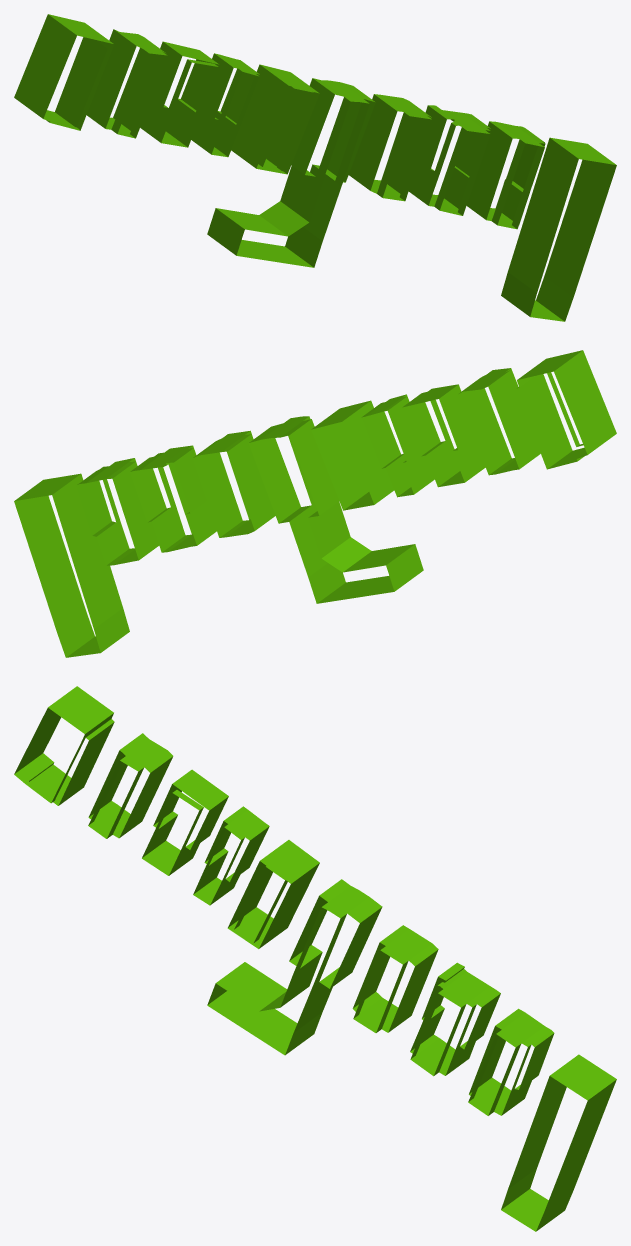
Rendered from Wall_Hini_6.0_Slope_1.5.obj.
3 views of the same model, one above another, from view 1: azimuth 30°, elevation 25°; view 2: azimuth 150°, elevation 25°; view 3: azimuth 330°, elevation 25° (orthographic).
Parts seen in each view (by area): view 1: 1, 5, 10, 7, 3, 4, 9, 2, 8, 6; view 2: 5, 1, 10, 4, 9, 7, 3, 2, 8, 6; view 3: 5, 1, 10, 4, 7, 3, 2, 9, 8, 6.
Part boxes in pixels (box(x1,y1,x2,y2)): 1: box(501, 137, 616, 321); 5: box(207, 78, 375, 267); 10: box(14, 14, 113, 130); 7: box(231, 64, 319, 174); 3: box(348, 94, 432, 201); 4: box(408, 105, 490, 215); 9: box(86, 29, 167, 138); 2: box(466, 121, 545, 229); 8: box(140, 41, 219, 147); 6: box(191, 53, 259, 157); 5: box(248, 416, 423, 603); 1: box(14, 473, 129, 657); 10: box(516, 350, 616, 469); 4: box(130, 445, 216, 552); 9: box(457, 368, 540, 475); 7: box(311, 400, 394, 510); 3: box(192, 430, 275, 537); 2: box(76, 458, 159, 565); 8: box(402, 384, 485, 487); 6: box(361, 394, 434, 497); 5: box(207, 879, 382, 1055); 1: box(501, 1054, 616, 1231); 10: box(14, 686, 114, 805); 4: box(410, 962, 500, 1076); 7: box(227, 840, 319, 948); 3: box(352, 925, 438, 1032); 2: box(468, 1008, 554, 1115); 9: box(88, 733, 173, 838); 8: box(142, 769, 228, 875); 6: box(193, 806, 269, 905).
Size of the model in its own units: 136 by 91.5 by 12.
